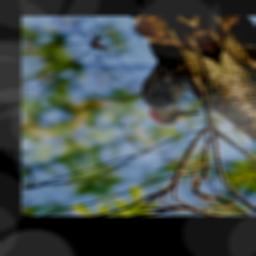Woodpecker: (106, 49, 217, 135)
